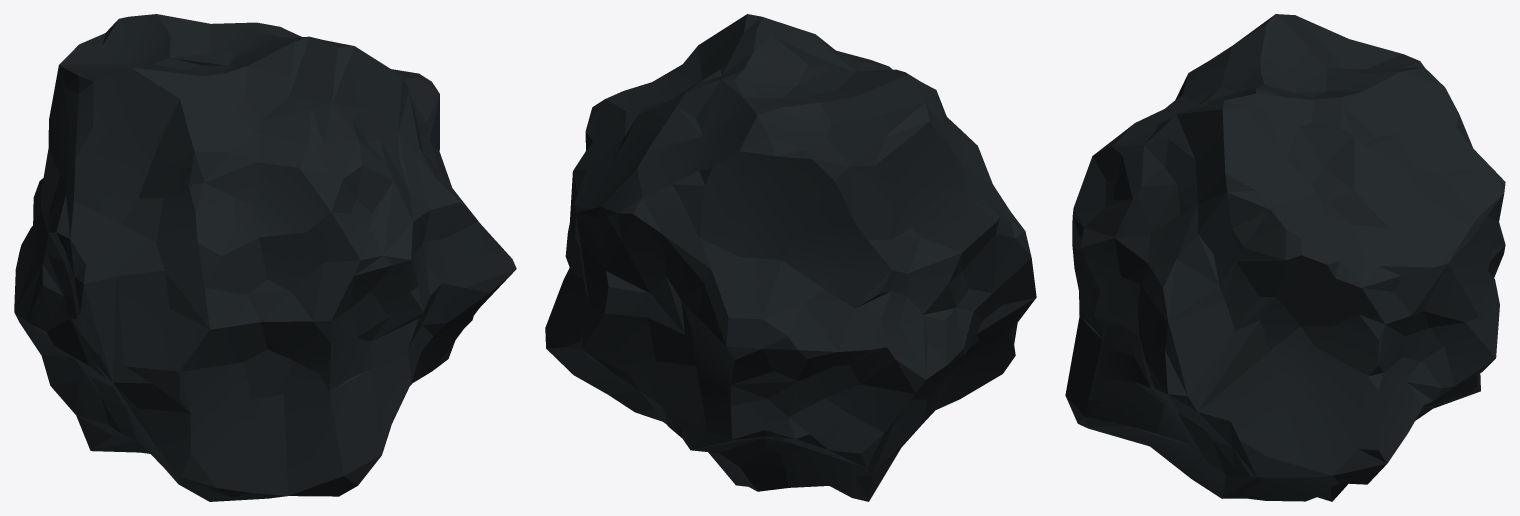
The model's file is Asteroid_l_02.FBX.
The picture shows the model from 3 angles, left to right: view 1: azimuth 30°, elevation 25°; view 2: azimuth 150°, elevation 25°; view 3: azimuth 270°, elevation 25°; orthographic projection. The views are drawn at different scales.
Parts seen in each view (by area): view 1: Asteroid_l_02; view 2: Asteroid_l_02; view 3: Asteroid_l_02.
Boxes of the visible parts, bbox=[...] form: Asteroid_l_02: bbox=[14, 14, 516, 501]; Asteroid_l_02: bbox=[545, 14, 1036, 501]; Asteroid_l_02: bbox=[1065, 14, 1505, 501].
Size of the model in its own units: 1222 by 1217 by 1151.
